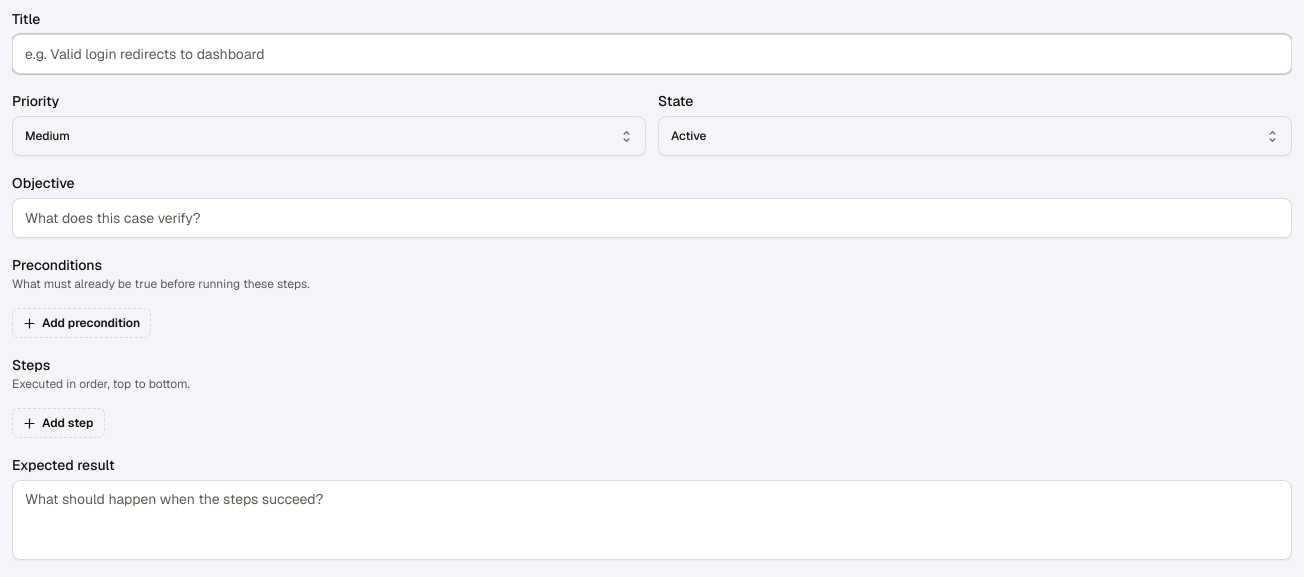
Test: CaseFields › changes priority through its select
Click the dropdown named "Priority" at x=47, y=136, box 12,116 -> 646,156
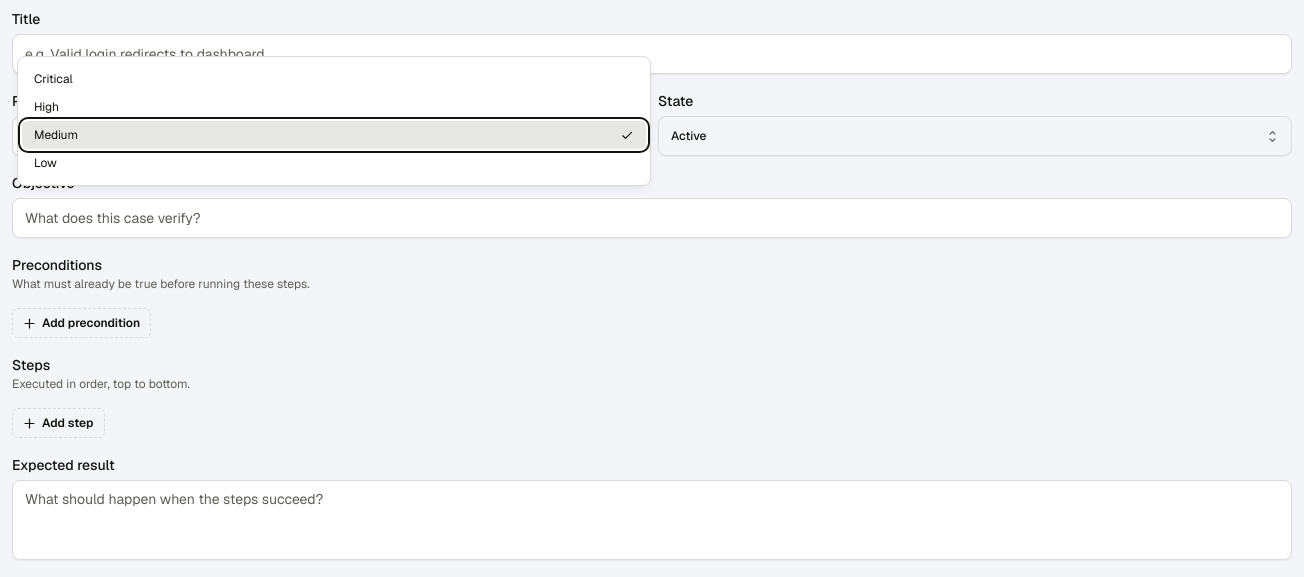
Click the option "Critical" at x=53, y=79, box 34,71 -> 73,87
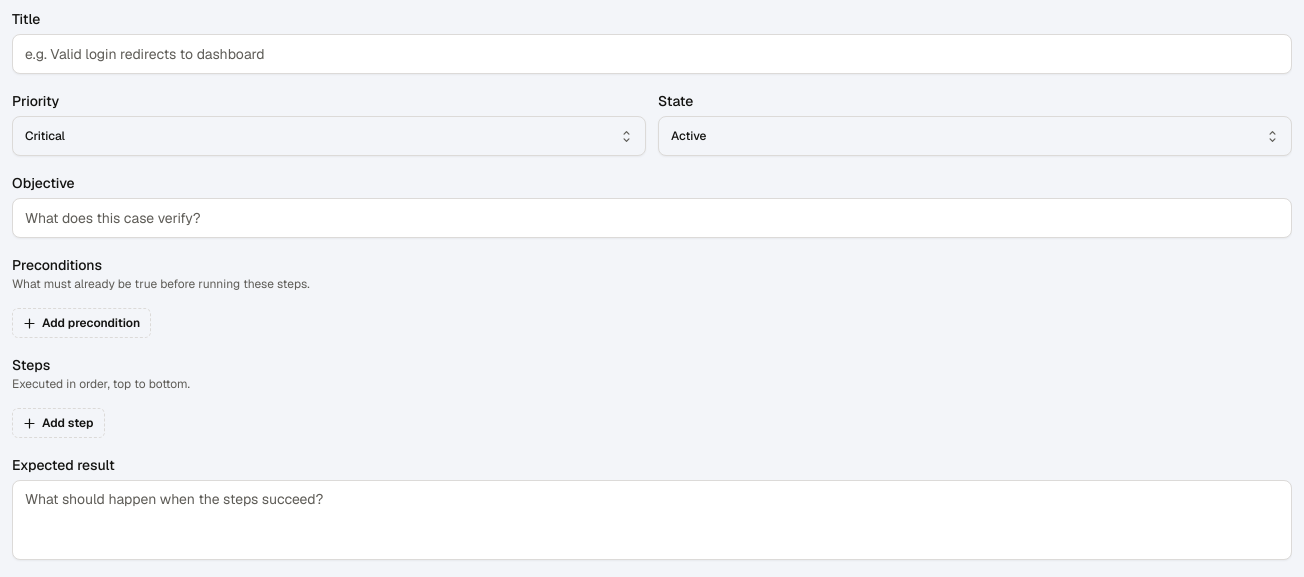
Now the dropdown named "Priority" reads "Critical", box 12,116 -> 646,156
